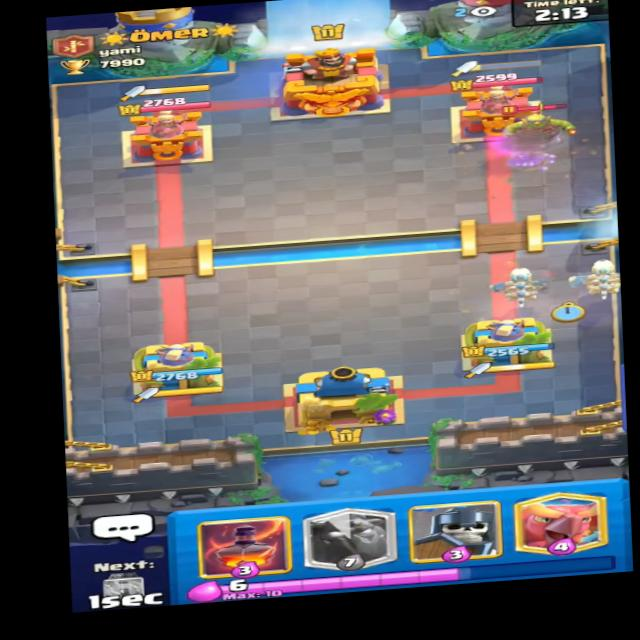Goblindemolisher: (499, 99, 576, 150)
